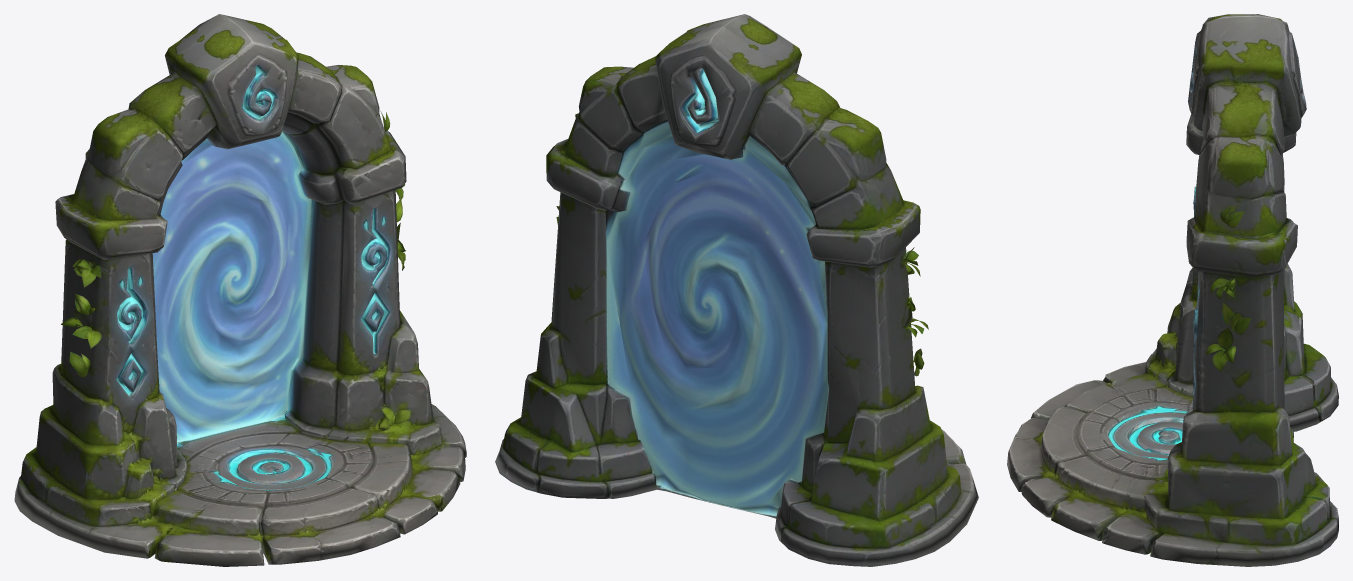
The model's file is waystone.glb.
3 views of the same model, side by side, from view 1: azimuth 30°, elevation 25°; view 2: azimuth 150°, elevation 25°; view 3: azimuth 270°, elevation 25° (orthographic). The views are drawn at different scales.
Bounding box in the file's own units: 0.9209 × 0.9526 × 0.6367.
1 material, 1 textured.
